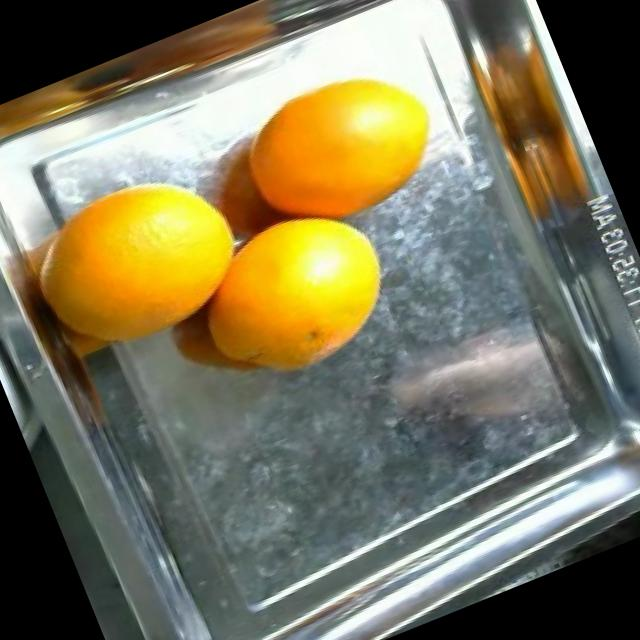Fruit: (226, 31, 487, 259), (194, 178, 422, 398)
